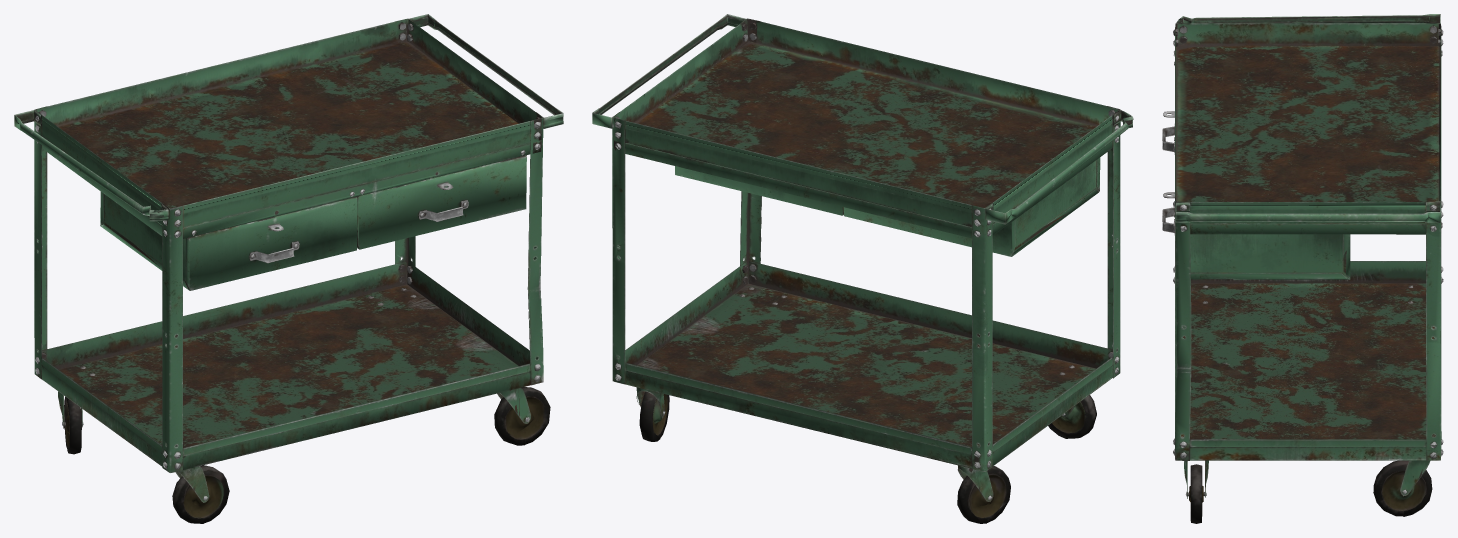
The model's file is tool_cart.glb.
3 views of the same model, side by side, from view 1: azimuth 30°, elevation 25°; view 2: azimuth 150°, elevation 25°; view 3: azimuth 270°, elevation 25° (orthographic). The views are drawn at different scales.
Parts seen in each view (by area): view 1: tool_cart; view 2: tool_cart; view 3: tool_cart.
Part boxes in pixels (<box>): tool_cart: <box>14,14,563,523</box>; tool_cart: <box>592,14,1133,523</box>; tool_cart: <box>1162,14,1443,523</box>.
Size of the model in its own units: 1.27 by 0.9647 by 0.7544.
1 material, 1 textured.
